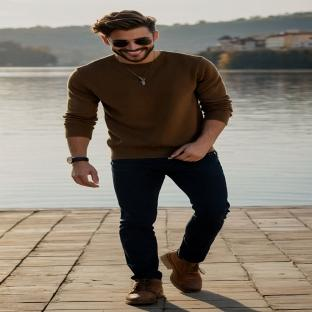Human: (64, 10, 233, 304)
